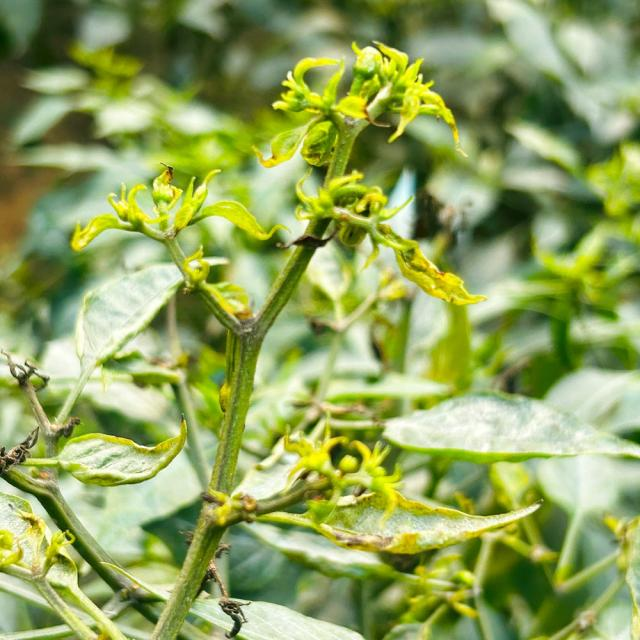Chilli_Leaf_Curl: (2, 37, 635, 638), (252, 38, 488, 308), (236, 420, 544, 555), (68, 161, 286, 334), (252, 38, 465, 173), (293, 166, 487, 308), (52, 261, 186, 430), (251, 484, 543, 555), (379, 388, 639, 464), (55, 413, 188, 487), (0, 491, 77, 583)
